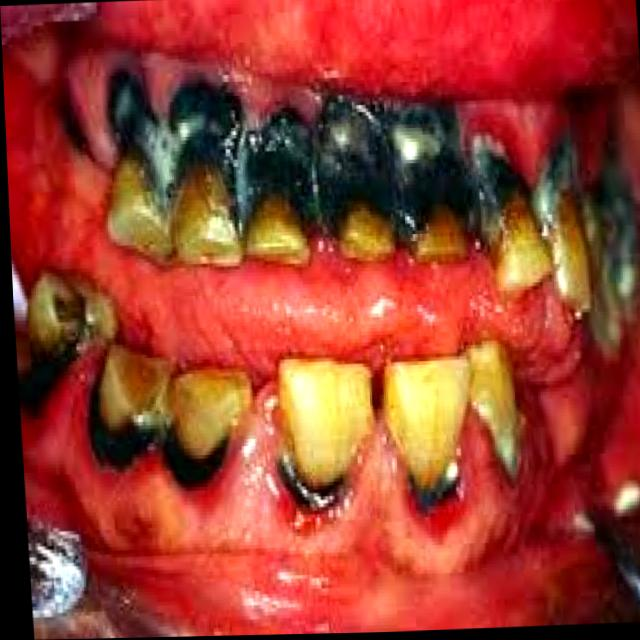tooth-discoloration: (110, 71, 527, 263), (280, 361, 375, 486), (384, 359, 470, 488), (171, 372, 252, 459), (99, 348, 172, 430)
